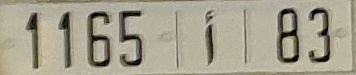1: (57, 10, 76, 70), (25, 12, 42, 70)
3: (307, 7, 332, 65)
5: (118, 8, 144, 68)
6: (84, 10, 112, 68)
8: (277, 7, 301, 65)
a: (202, 8, 217, 68)
